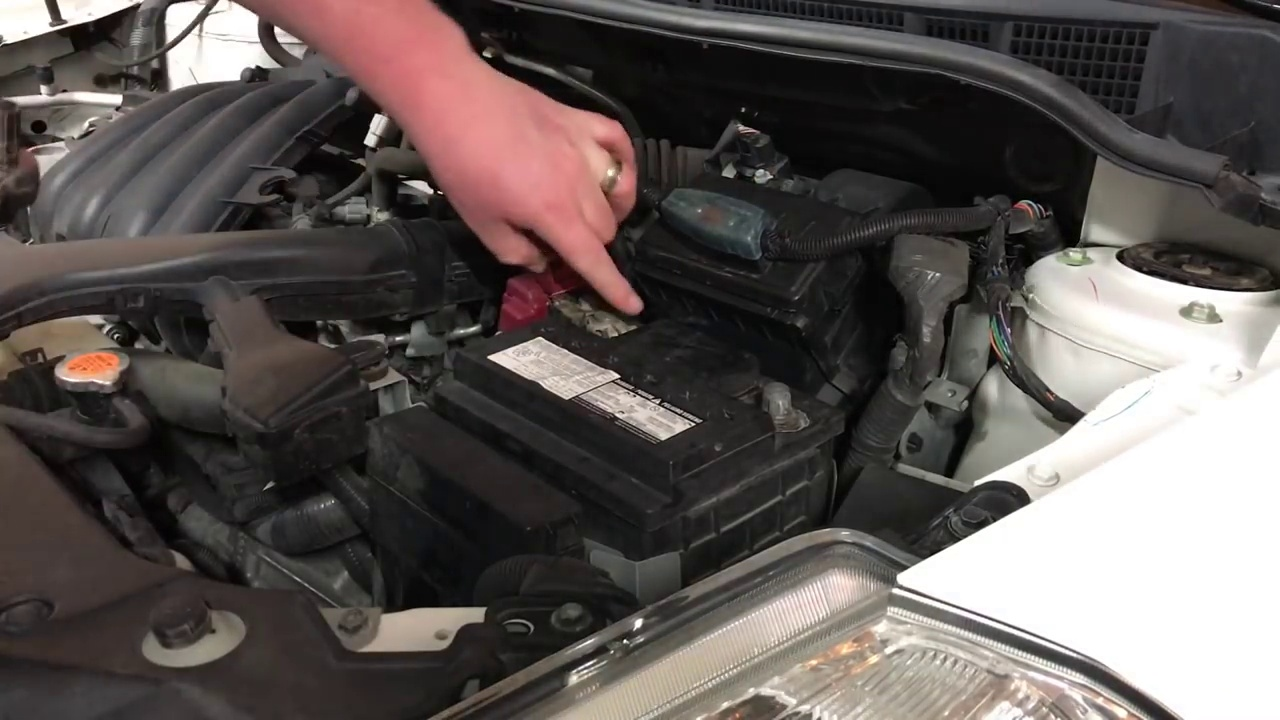battery: (445, 286, 825, 474)
neg_disconnected: (734, 353, 817, 449)
pos_touched: (478, 170, 643, 346)
